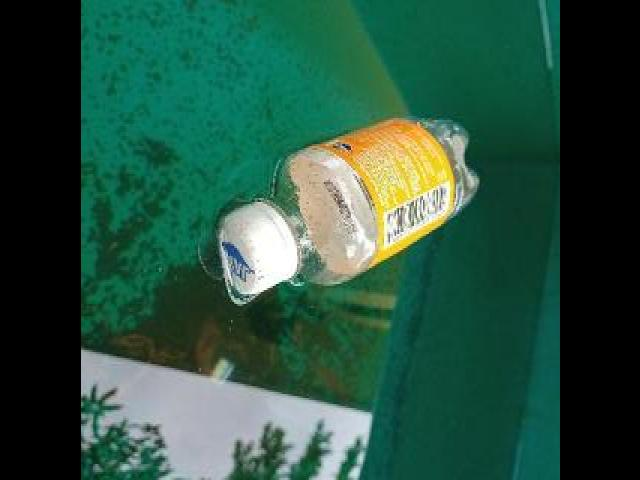Bottle: (212, 104, 484, 310)
